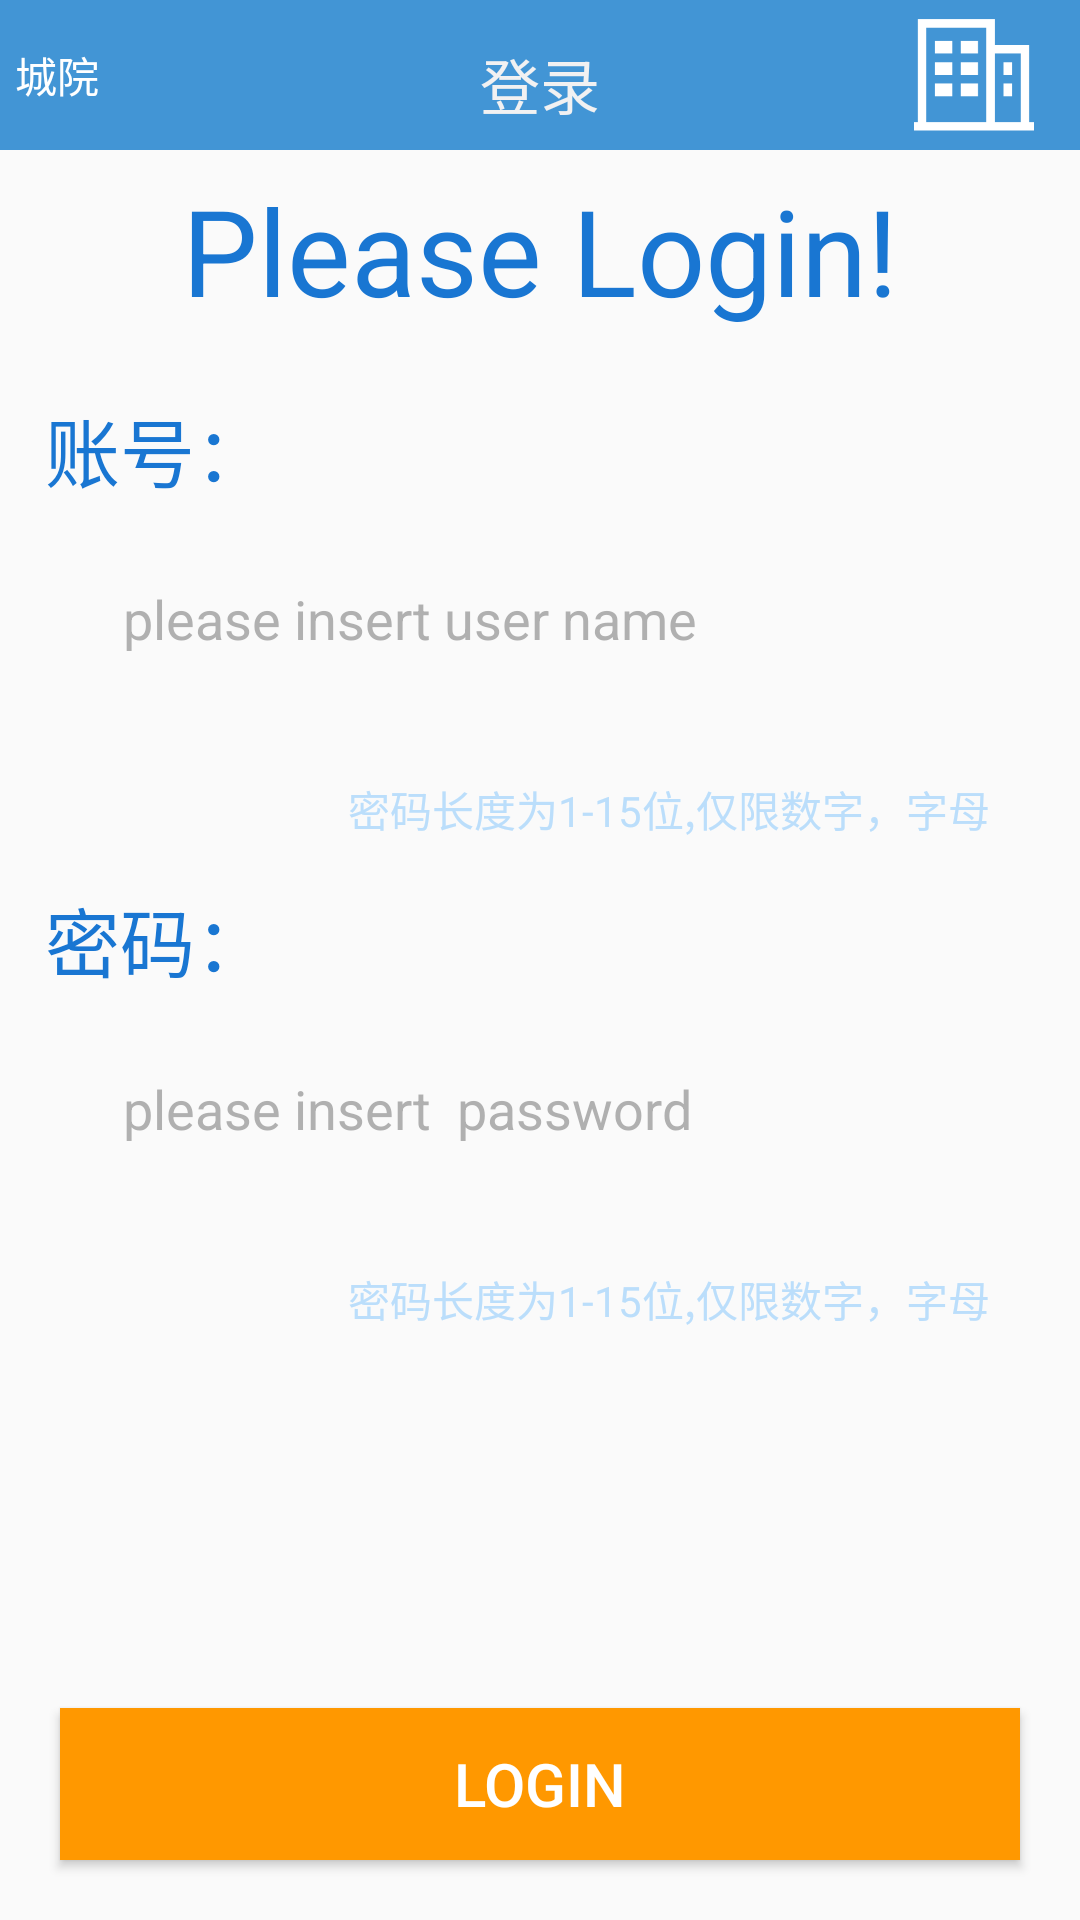

Locate icon controls on the screen. Image size 1080×1920, boxes as (x1, y1, x2, y2).
home hotel: (914, 19, 1034, 131)
